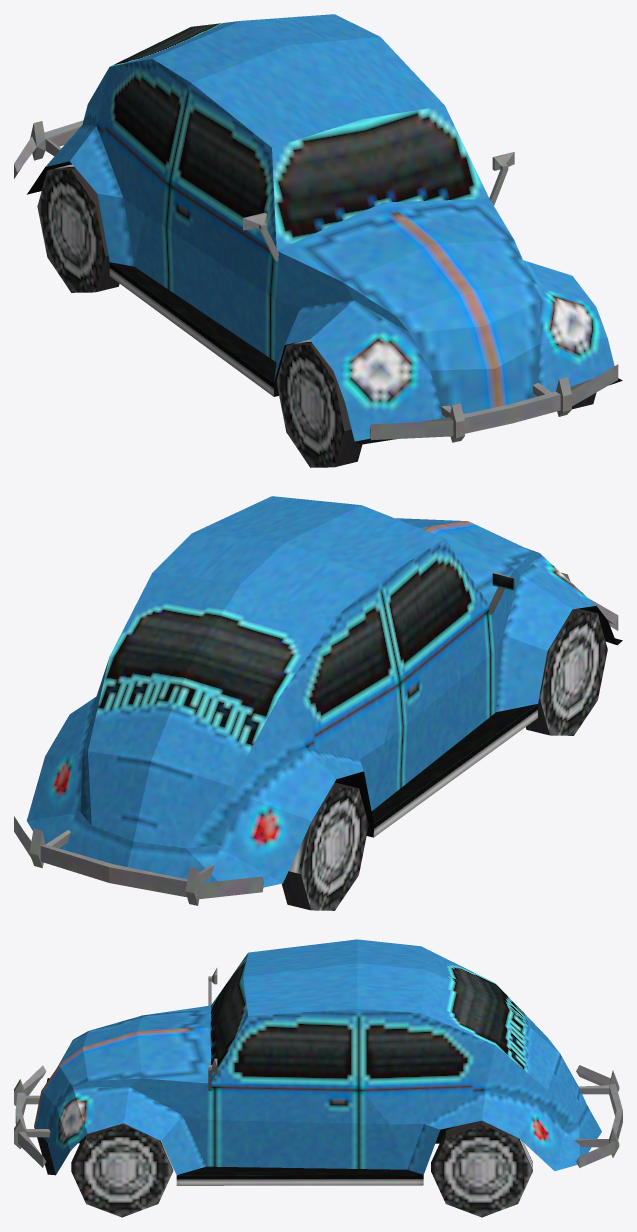
File: petaceleste.fbx
3 views of the same model, one above another, from view 1: azimuth 30°, elevation 25°; view 2: azimuth 150°, elevation 25°; view 3: azimuth 270°, elevation 25° (orthographic). The views are drawn at different scales.
Parts seen in each view (by area): view 1: compact_classic, wheel_FR, wheel_RR; view 2: compact_classic, wheel_RR, wheel_FR; view 3: compact_classic, wheel_RL, wheel_FL.
Part boxes in pixels (box(x1,y1,x2,y2)): compact_classic: box(14, 14, 622, 444); wheel_FR: box(276, 340, 362, 467); wheel_RR: box(37, 164, 119, 292); compact_classic: box(14, 496, 622, 905); wheel_RR: box(282, 782, 368, 910); wheel_FR: box(525, 608, 607, 735); compact_classic: box(14, 939, 622, 1185); wheel_RL: box(431, 1120, 532, 1217); wheel_FL: box(71, 1123, 173, 1217).
Size of the model in its own units: 158 by 153 by 406.
